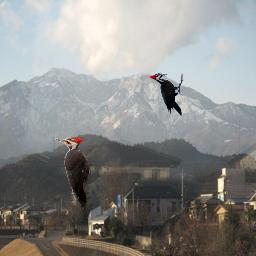Woodpecker: (54, 137, 92, 210), (149, 73, 183, 118)
